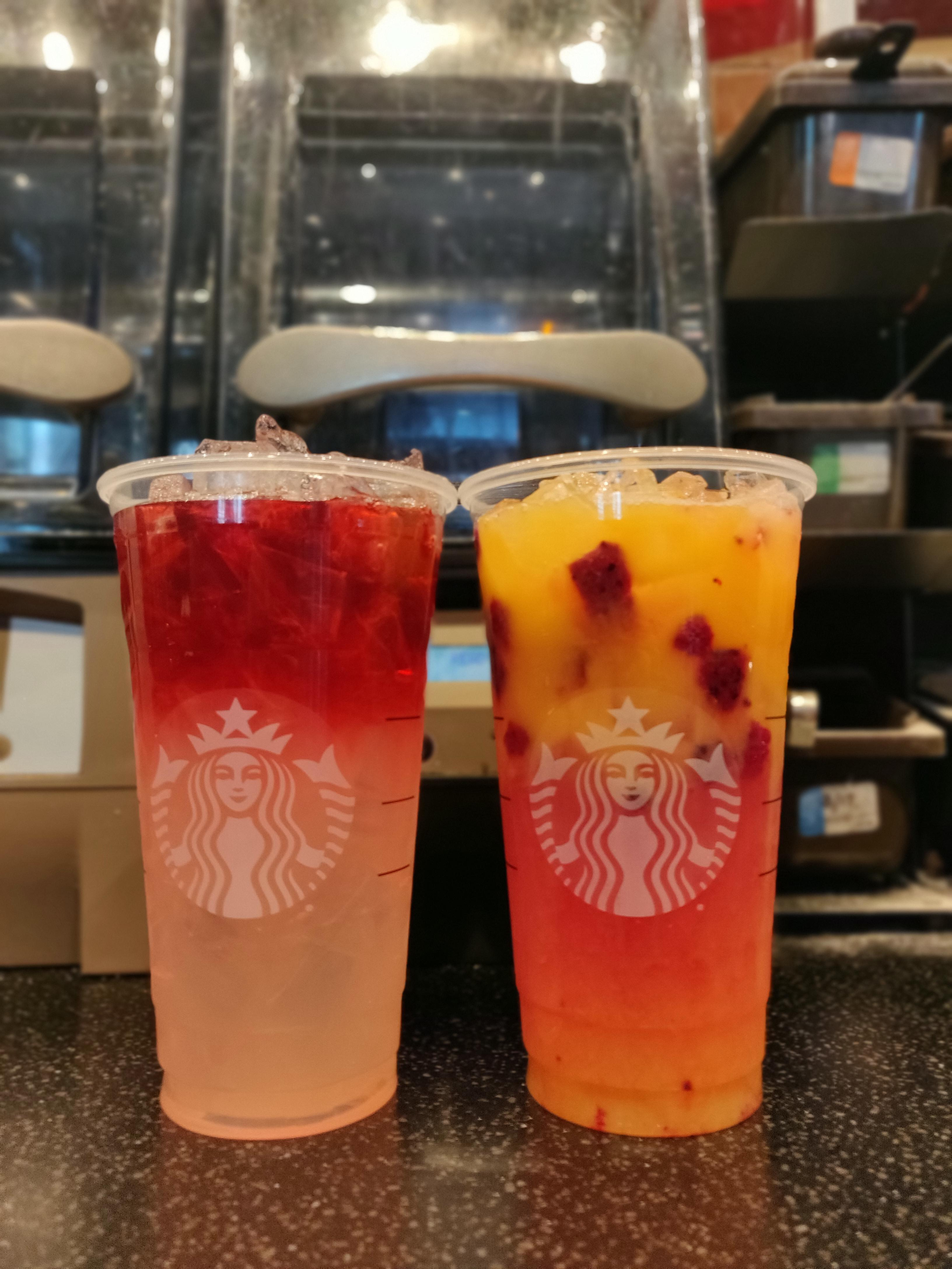cup-disposable: (455, 442, 819, 1140), (93, 453, 454, 1142)
